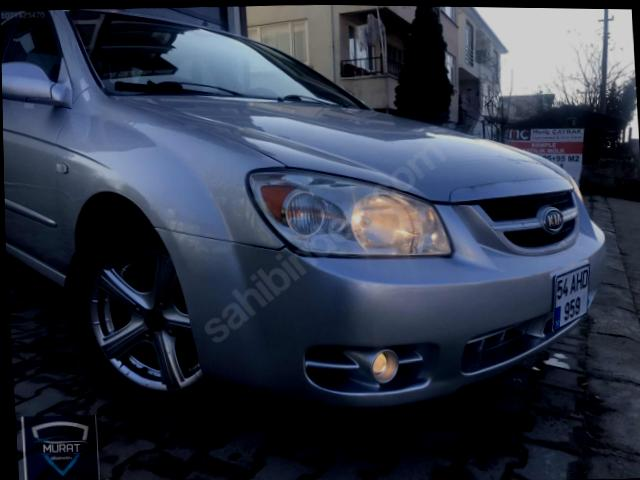plaka: (553, 265, 589, 331)
